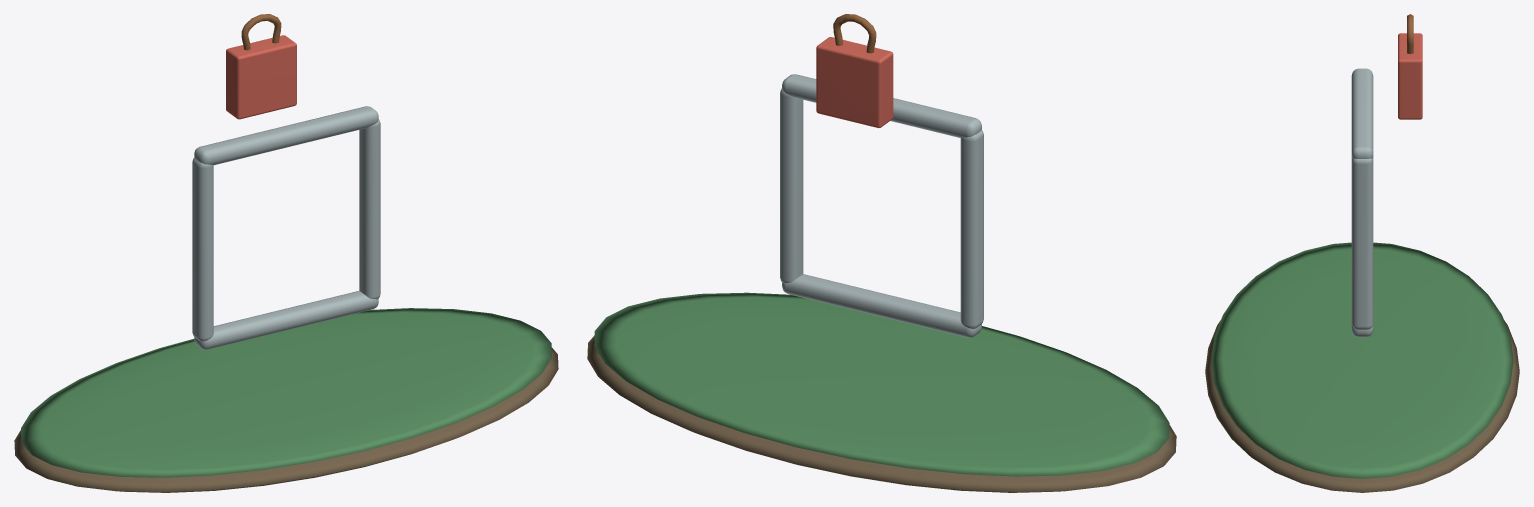
The model's file is complete-third-empty-purse-poverty.glb.
3 views of the same model, side by side, from view 1: azimuth 30°, elevation 25°; view 2: azimuth 150°, elevation 25°; view 3: azimuth 270°, elevation 25° (orthographic). The views are drawn at different scales.
Visible parts, largest first — view 1: complete-third-empty-purse-poverty_surface_01, complete-third-empty-purse-poverty_surface_02, complete-third-empty-purse-poverty_surface_00, complete-third-empty-purse-poverty_surface_03, complete-third-empty-purse-poverty_surface_04; view 2: complete-third-empty-purse-poverty_surface_01, complete-third-empty-purse-poverty_surface_02, complete-third-empty-purse-poverty_surface_00, complete-third-empty-purse-poverty_surface_03, complete-third-empty-purse-poverty_surface_04; view 3: complete-third-empty-purse-poverty_surface_01, complete-third-empty-purse-poverty_surface_02, complete-third-empty-purse-poverty_surface_00, complete-third-empty-purse-poverty_surface_03.
Boxes of the visible parts, x1,y1,x2,y2 form: complete-third-empty-purse-poverty_surface_01: (21,308,551,477); complete-third-empty-purse-poverty_surface_02: (192,106,380,349); complete-third-empty-purse-poverty_surface_00: (14,347,558,492); complete-third-empty-purse-poverty_surface_03: (226,35,296,119); complete-third-empty-purse-poverty_surface_04: (241,14,281,50); complete-third-empty-purse-poverty_surface_01: (594,292,1169,476); complete-third-empty-purse-poverty_surface_02: (780,74,983,337); complete-third-empty-purse-poverty_surface_00: (587,335,1176,492); complete-third-empty-purse-poverty_surface_03: (816,37,893,128); complete-third-empty-purse-poverty_surface_04: (833,14,876,53); complete-third-empty-purse-poverty_surface_01: (1211,242,1513,478); complete-third-empty-purse-poverty_surface_02: (1351,68,1373,337); complete-third-empty-purse-poverty_surface_00: (1205,320,1519,492); complete-third-empty-purse-poverty_surface_03: (1398,33,1422,119).
Bounding box in the file's own units: 4.56 × 3.24 × 2.5.
